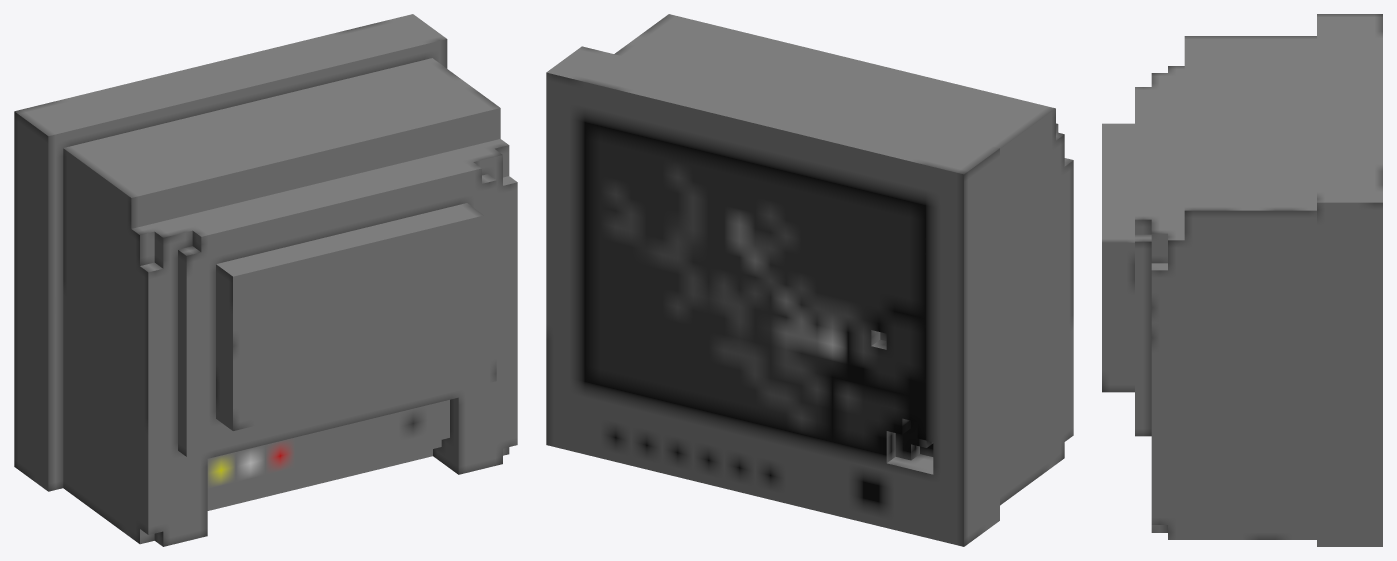
The picture shows the model from 3 angles, left to right: view 1: azimuth 30°, elevation 25°; view 2: azimuth 150°, elevation 25°; view 3: azimuth 270°, elevation 25°; orthographic projection. The views are drawn at different scales.
Parts seen in each view (by area): view 1: tv; view 2: tv; view 3: tv.
Boxes of the visible parts, <box> form: tv: <box>14,14,517,546</box>; tv: <box>546,14,1073,546</box>; tv: <box>1102,14,1382,546</box>.
Bounding box in the file's own units: 270 × 230 × 170.
1 material, 1 textured.
